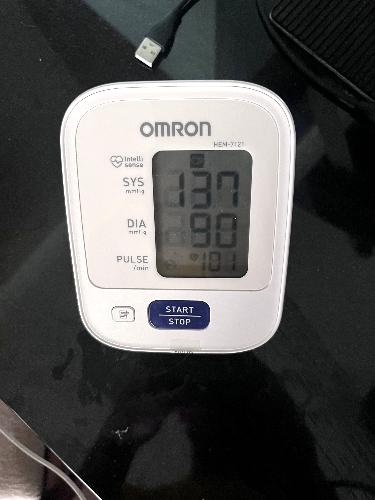bpm: (148, 149, 256, 281)
